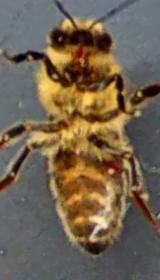varroa_mite: (92, 157, 127, 178)
